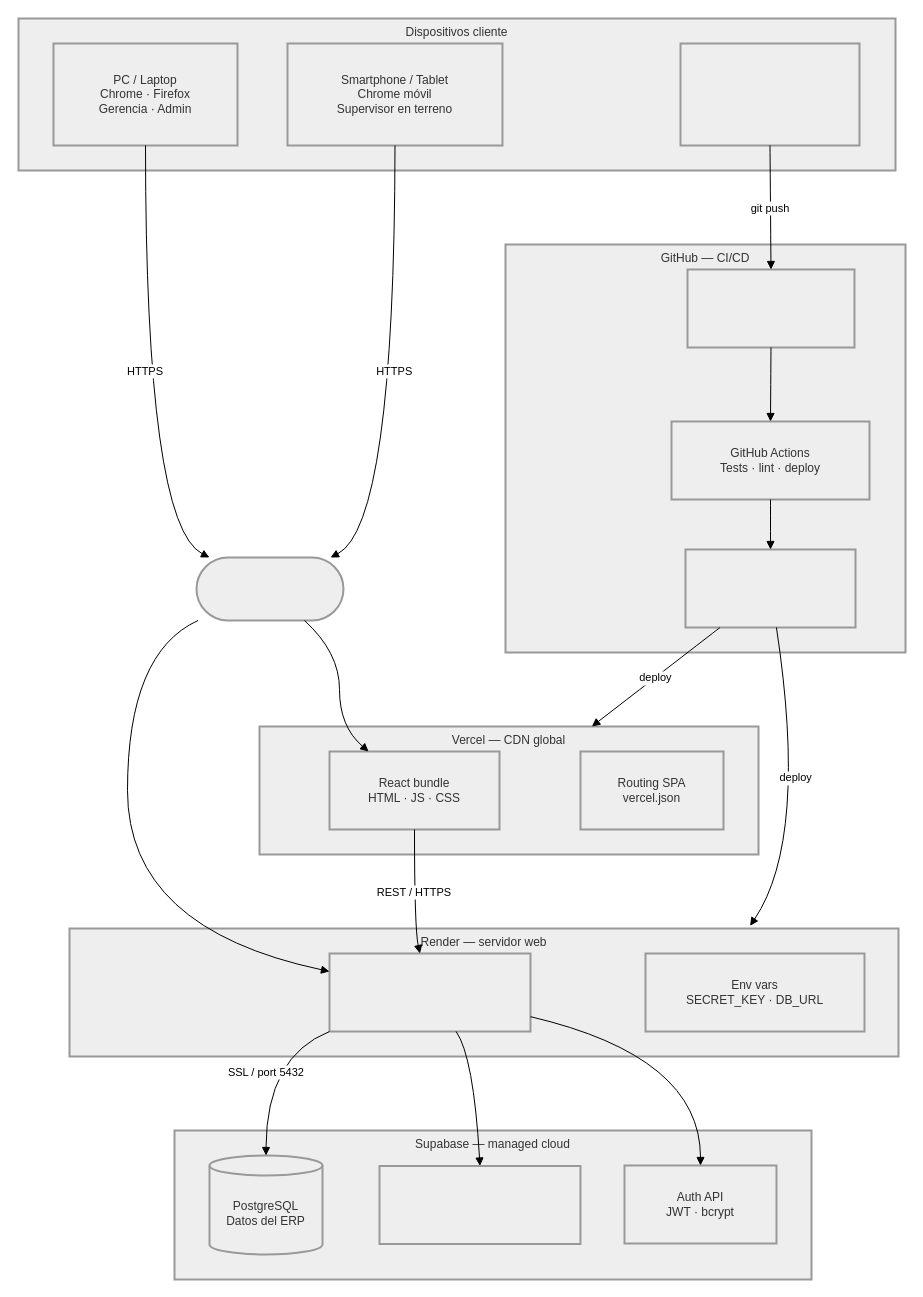
Some shapes in this 923 by 1297 pixel diagram are drawn without their labels. Each missing label, with the centre of its shape:
Deploy hooks Vercel · Render: point (770, 588)
Django app Gunicorn · REST API: point (429, 992)
Internet HTTPS / TLS 1.3: point (269, 588)
Máquina del dev VS Code · Git Node.js · Python: point (769, 94)
Repositorio main · develop: point (770, 308)
Storage PDFs · firmas · docs: point (479, 1204)
